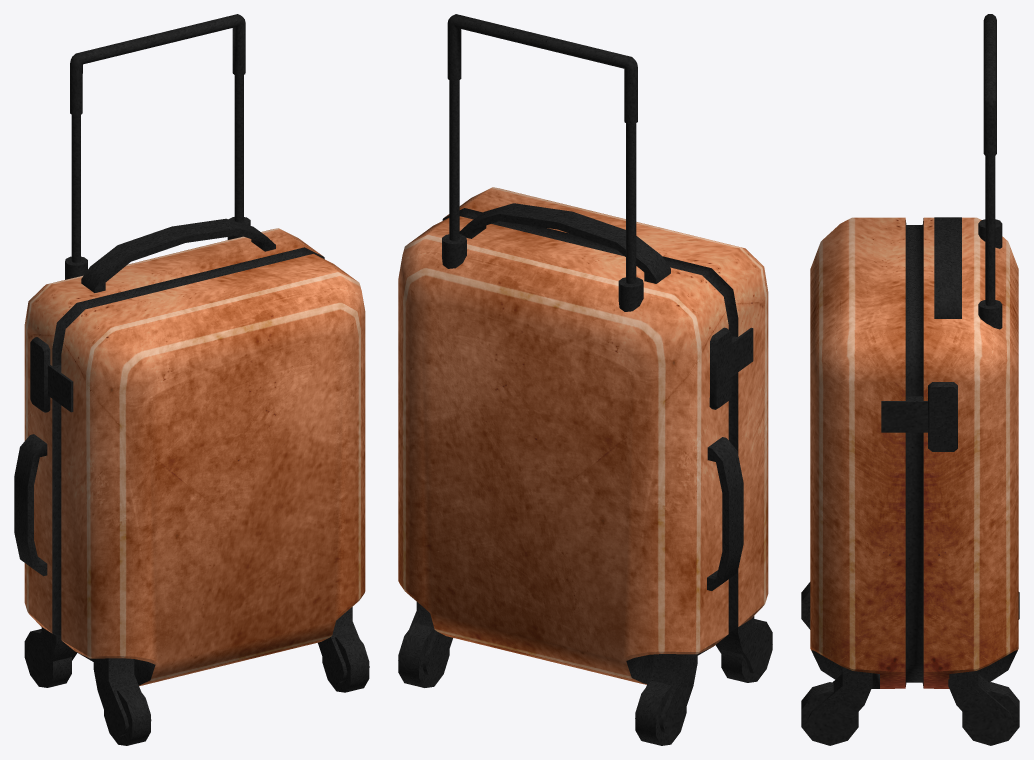
File: suitcase_2.fbx
3 renders of one model, left to right at view 1: azimuth 30°, elevation 25°; view 2: azimuth 150°, elevation 25°; view 3: azimuth 270°, elevation 25°, orthographic. The views are drawn at different scales.
Parts seen in each view (by area): view 1: suitcase_2; view 2: suitcase_2; view 3: suitcase_2.
Boxes of the visible parts, bbox=[...] form: suitcase_2: bbox=[14, 14, 369, 745]; suitcase_2: bbox=[398, 14, 772, 745]; suitcase_2: bbox=[801, 14, 1019, 745].
Bounding box in the file's own units: 0.7689 × 1.52 × 0.4749.
